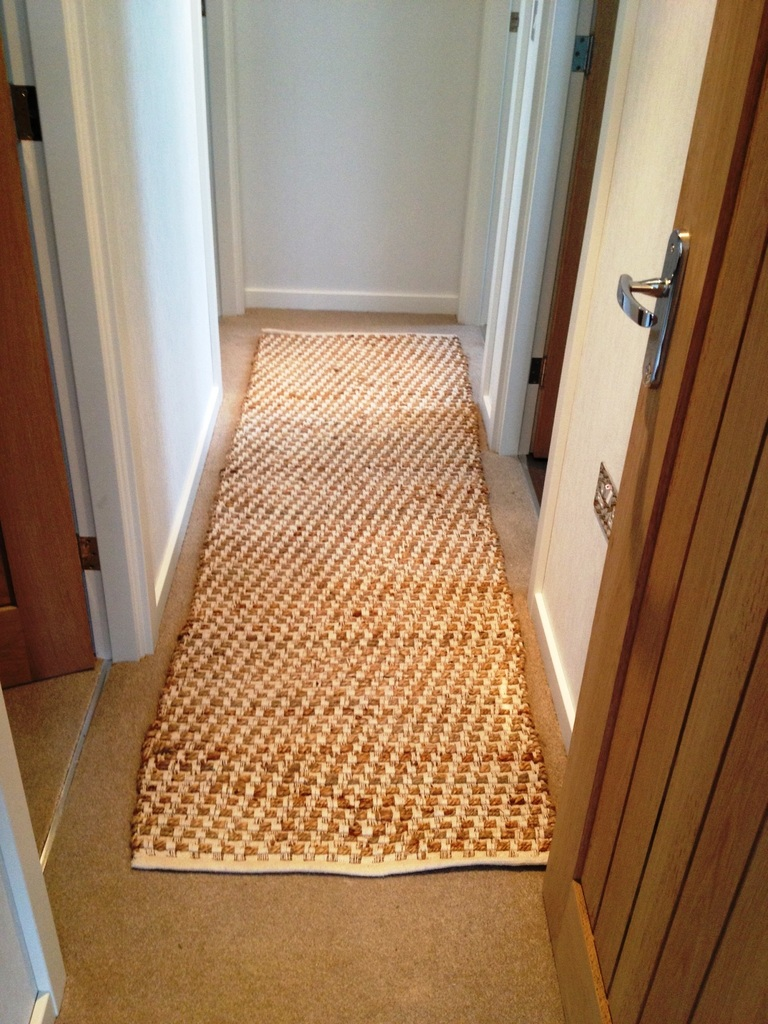door: (701, 112, 768, 1024), (10, 299, 65, 700)
handle: (619, 252, 674, 358)
